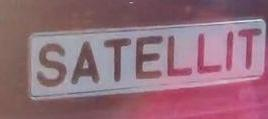1: (221, 25, 240, 77)
A: (69, 35, 103, 91)
E: (132, 31, 167, 85)
L: (162, 29, 198, 81), (191, 28, 225, 80)
S: (34, 37, 72, 95)
T: (101, 33, 135, 87), (234, 22, 265, 76)
